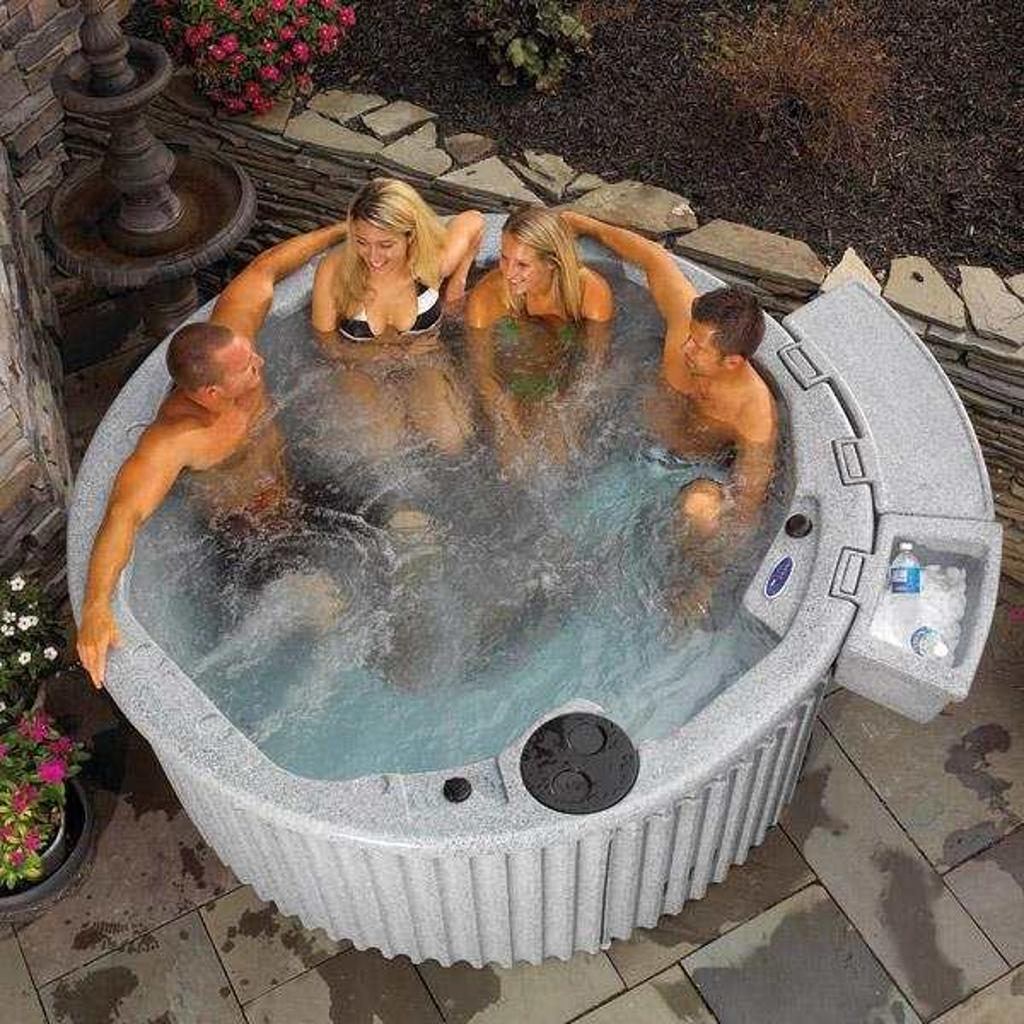face: (355, 215, 405, 276), (499, 231, 547, 294), (221, 336, 264, 398), (677, 318, 718, 377)
